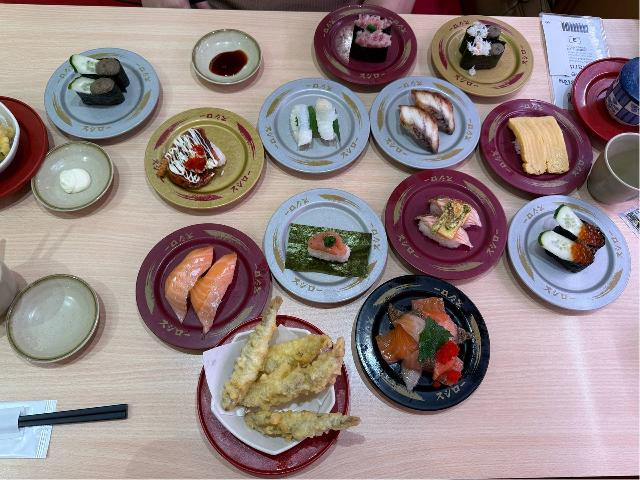janback: (350, 279, 504, 399)
jangold: (141, 100, 278, 199), (427, 20, 546, 85)
janred: (192, 327, 364, 470), (131, 225, 276, 324), (394, 171, 508, 274), (306, 8, 452, 85), (479, 100, 593, 194), (0, 91, 56, 215), (573, 69, 640, 119)
janwhite: (258, 196, 390, 294), (251, 80, 364, 163), (369, 85, 480, 168), (533, 219, 628, 304), (51, 59, 148, 137)
